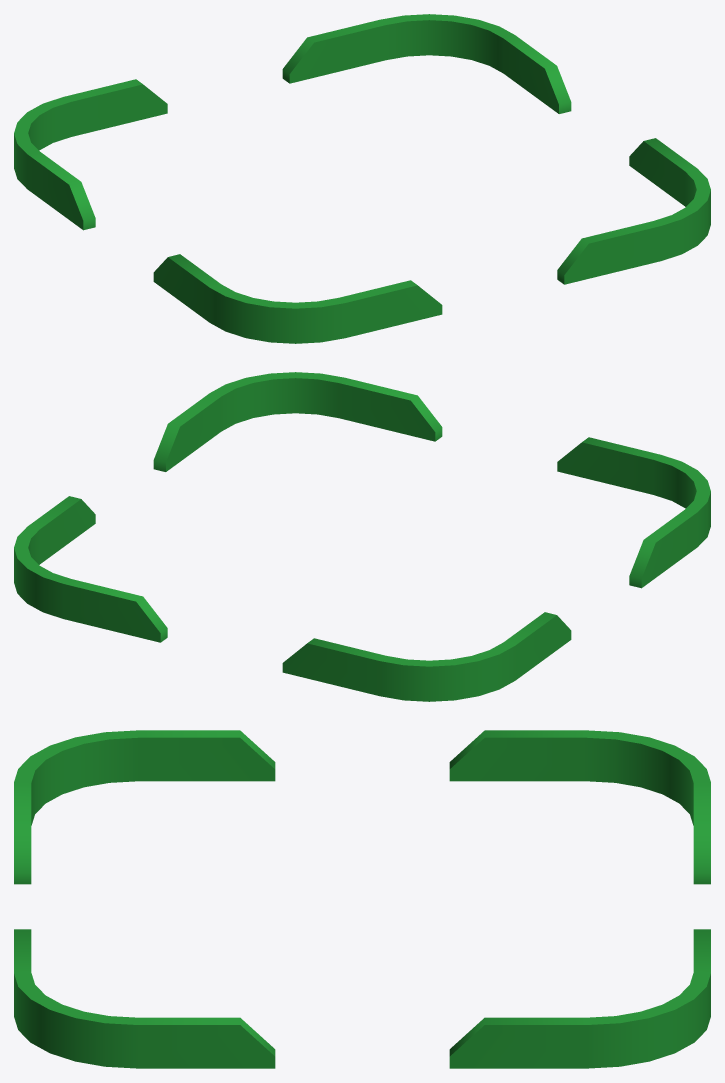
The model's file is Construction Site.fbx.
3 renders of one model, top to bottom at view 1: azimuth 30°, elevation 25°; view 2: azimuth 150°, elevation 25°; view 3: azimuth 270°, elevation 25°, orthographic. The views are drawn at different scales.
Parts seen in each view (by area): view 1: Walls; view 2: Walls; view 3: Walls.
Boxes of the visible parts, left/top/right/bottom form: Walls: left=14, top=14, right=710, bottom=343; Walls: left=14, top=372, right=710, bottom=701; Walls: left=14, top=730, right=710, bottom=1068.
Size of the model in its own units: 8 by 0.5511 by 8.
